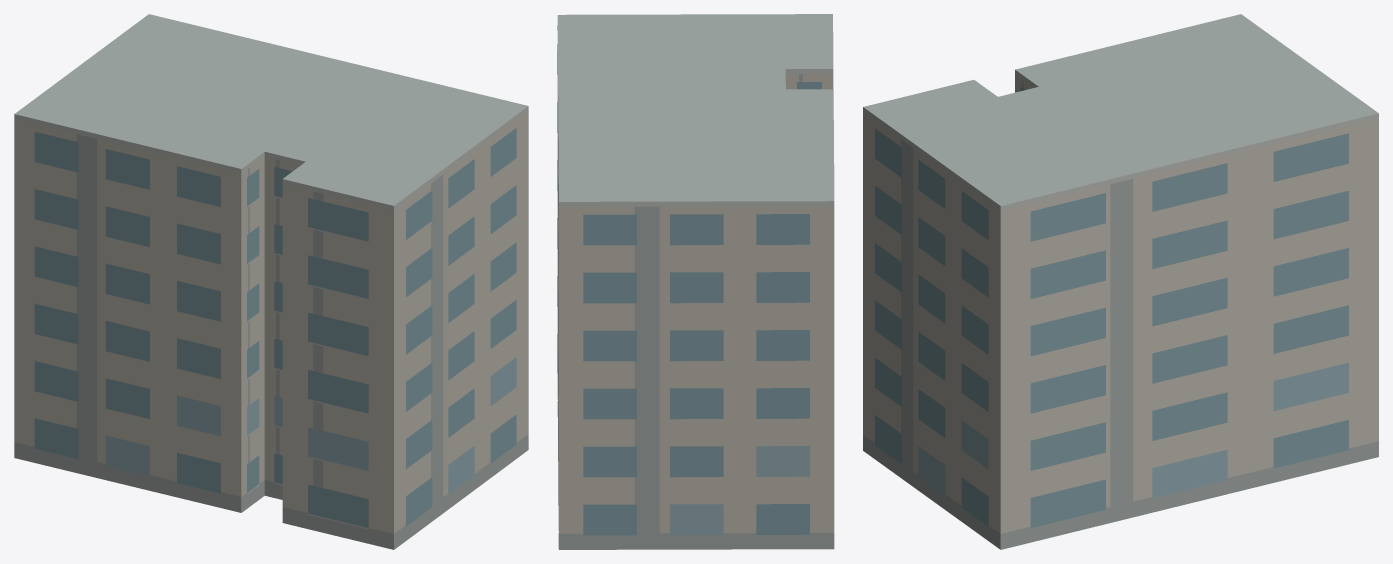
The model's file is survey-upis-32714557.glb.
3 views of the same model, side by side, from view 1: azimuth 30°, elevation 25°; view 2: azimuth 150°, elevation 25°; view 3: azimuth 270°, elevation 25° (orthographic).
Visible parts, largest first — view 1: survey-upis-32714557.tmp; view 2: survey-upis-32714557.tmp; view 3: survey-upis-32714557.tmp.
Boxes of the visible parts, bbox=[...] form: survey-upis-32714557.tmp: bbox=[14, 14, 528, 549]; survey-upis-32714557.tmp: bbox=[557, 14, 834, 549]; survey-upis-32714557.tmp: bbox=[863, 14, 1378, 549].
Bounding box in the file's own units: 20.39 × 17 × 23.12.
